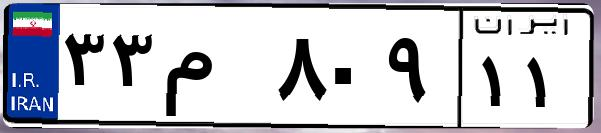0: (330, 28, 385, 110)
1: (475, 38, 525, 113), (525, 38, 570, 115)
3: (57, 26, 110, 100), (110, 28, 158, 98)
8: (270, 28, 330, 110)
9: (385, 28, 445, 110)
م: (158, 20, 270, 120)
